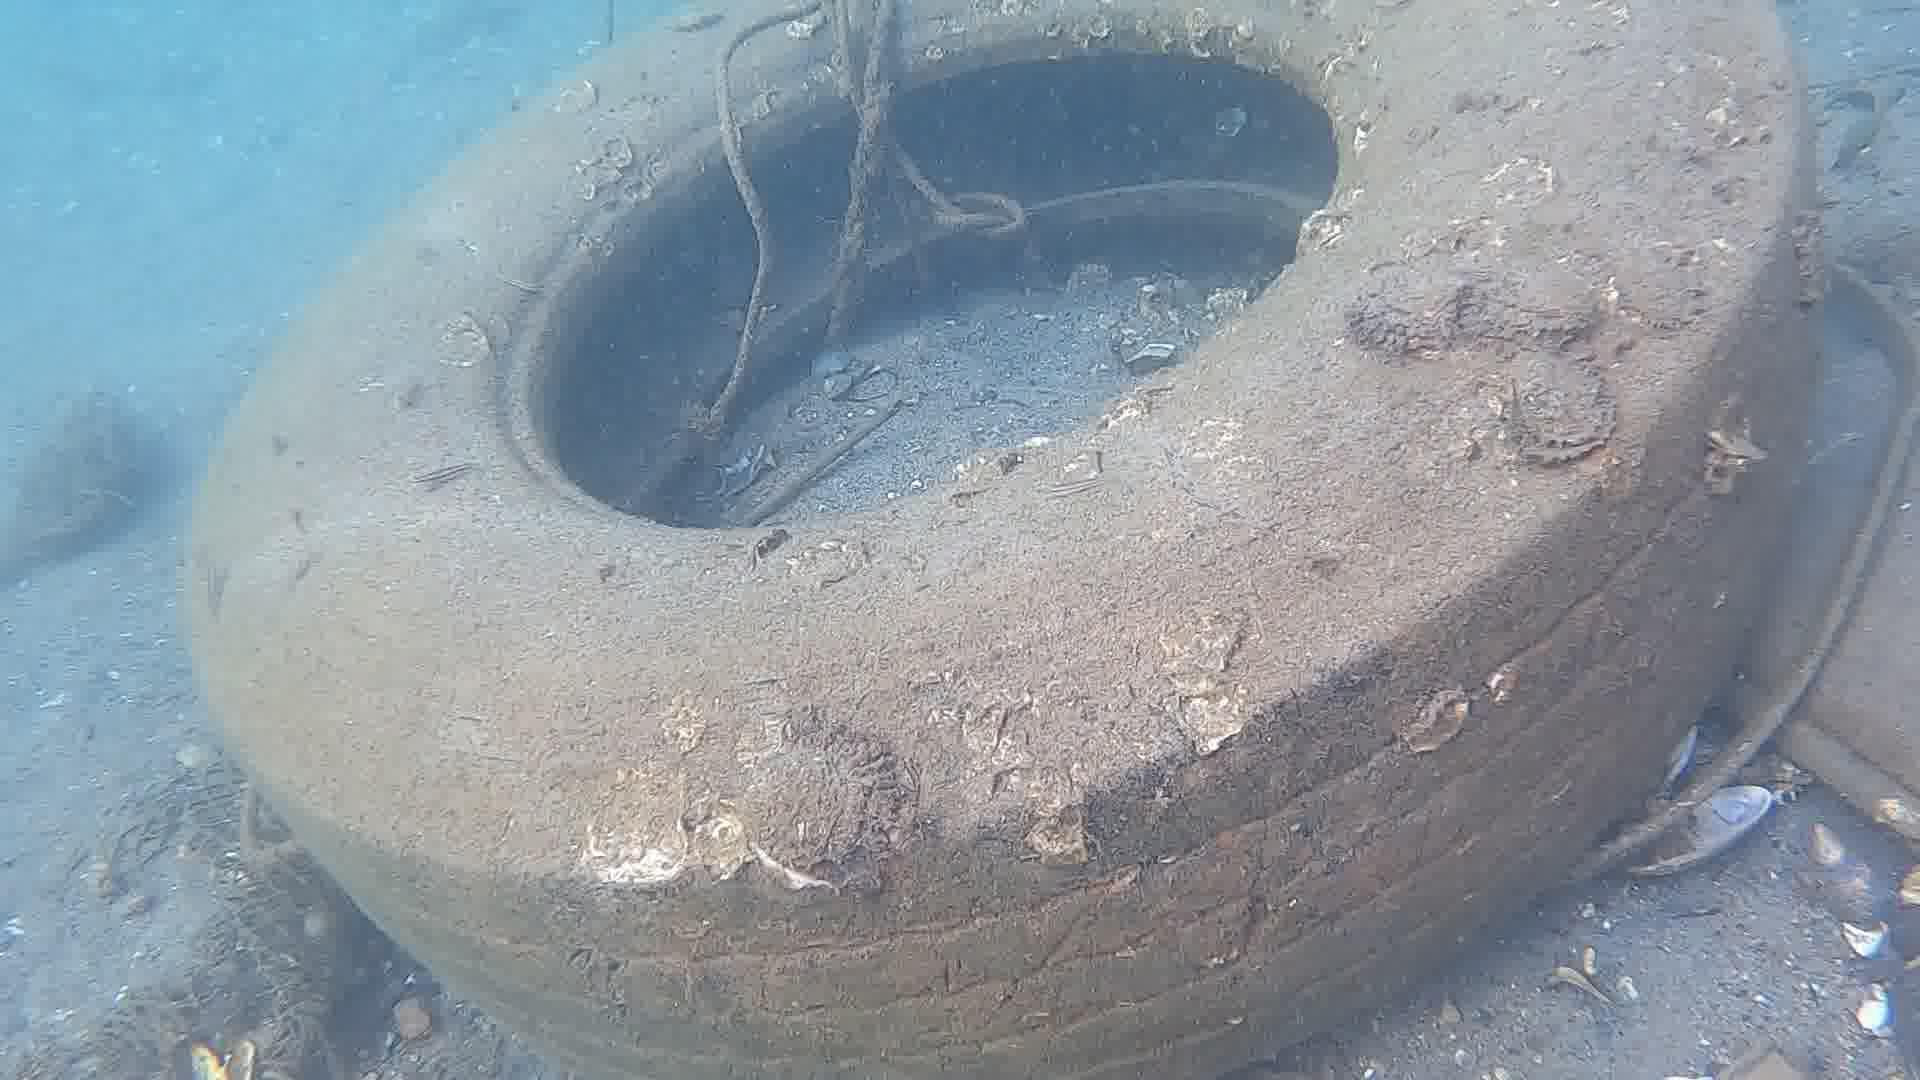bundle of ropes: (698, 0, 1043, 423)
tire: (179, 5, 1826, 1080)
